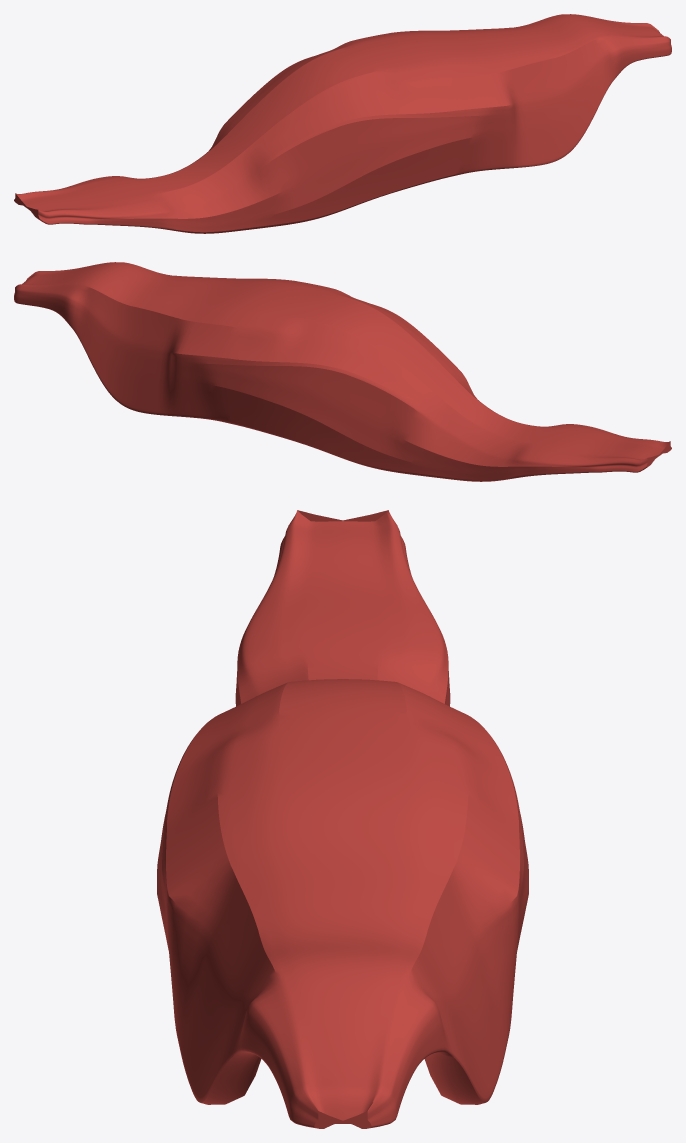
Rendered from adventure_5.glb.
The picture shows the model from 3 angles, top to bottom: view 1: azimuth 30°, elevation 25°; view 2: azimuth 150°, elevation 25°; view 3: azimuth 270°, elevation 25°; orthographic projection. The views are drawn at different scales.
Visible parts, largest first — view 1: adventure_5; view 2: adventure_5; view 3: adventure_5.
Part boxes in pixels (x1=…): adventure_5: x1=14, y1=14, x2=671, y2=233; adventure_5: x1=14, y1=262, x2=671, y2=481; adventure_5: x1=157, y1=510, x2=528, y2=1128.
Size of the model in its own units: 1.57 by 0.2855 by 0.3972.
